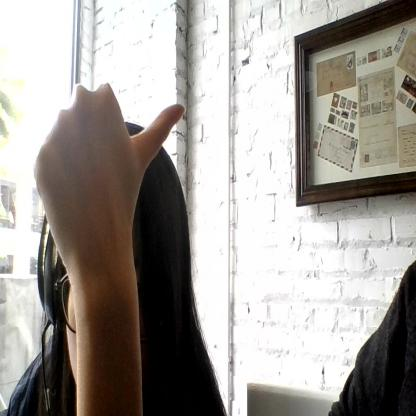left: (34, 81, 186, 241)
